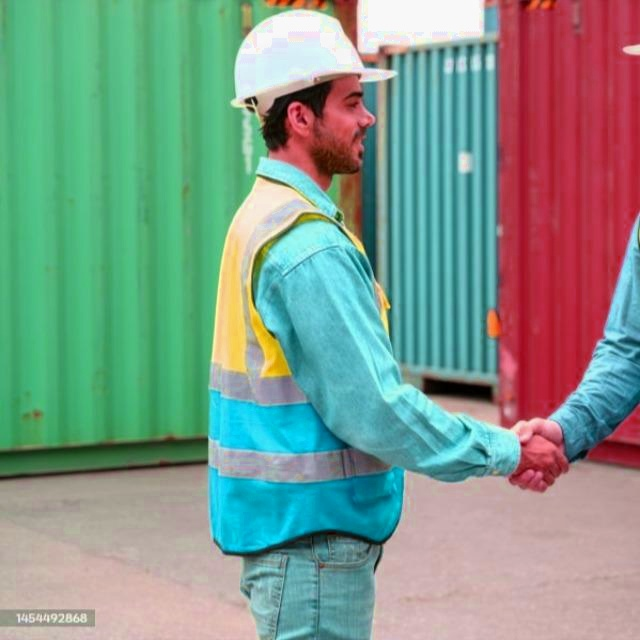Con_Casco: (235, 12, 398, 171)
Con_Chaleco: (209, 179, 409, 553)
